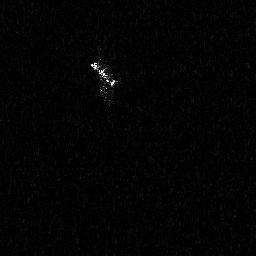ship: (87, 58, 117, 97)
